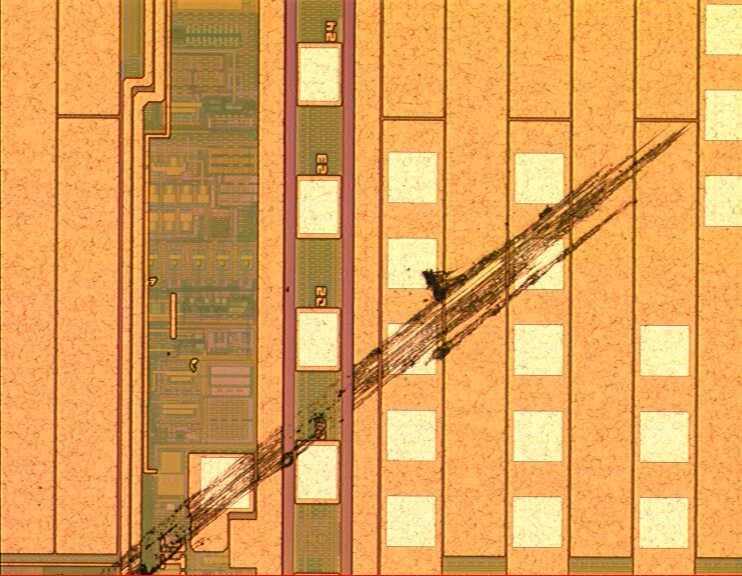SCRATCH: (88, 107, 710, 576)
